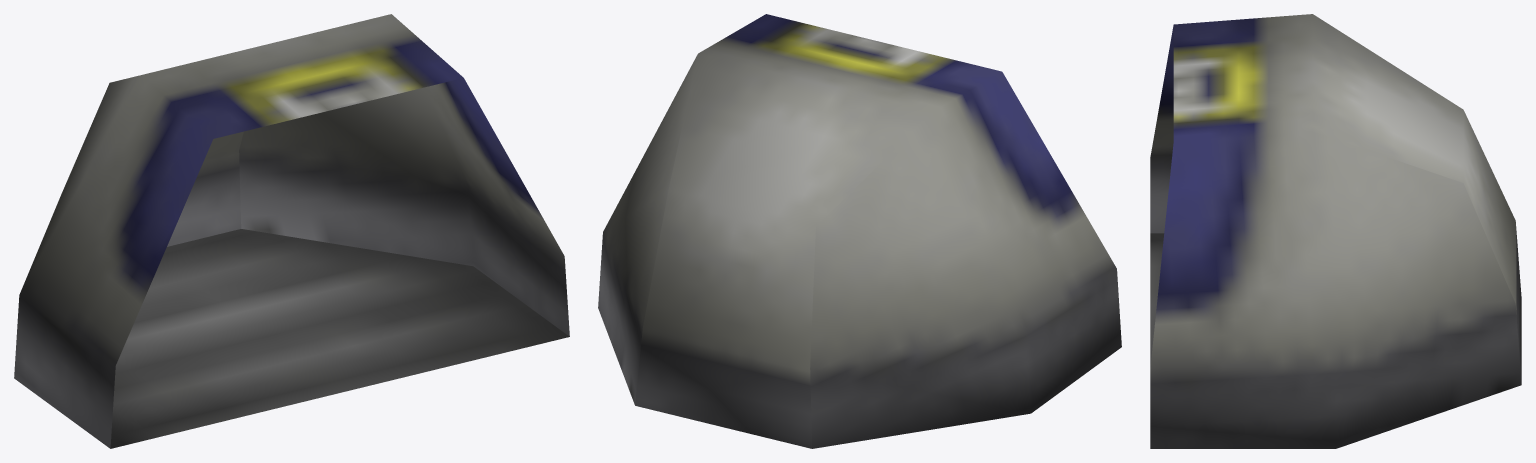
The model's file is batch_0117.obj.
The picture shows the model from 3 angles, left to right: view 1: azimuth 30°, elevation 25°; view 2: azimuth 150°, elevation 25°; view 3: azimuth 270°, elevation 25°; orthographic projection. The views are drawn at different scales.
Visible parts, largest first — view 1: batch_0117; view 2: batch_0117; view 3: batch_0117.
Boxes of the visible parts, x1,y1,x2,y2 form: batch_0117: (14, 14, 569, 448); batch_0117: (598, 14, 1121, 448); batch_0117: (1150, 14, 1521, 448).
Bounding box in the file's own units: 22 × 13 × 16.
1 material, 1 textured.
